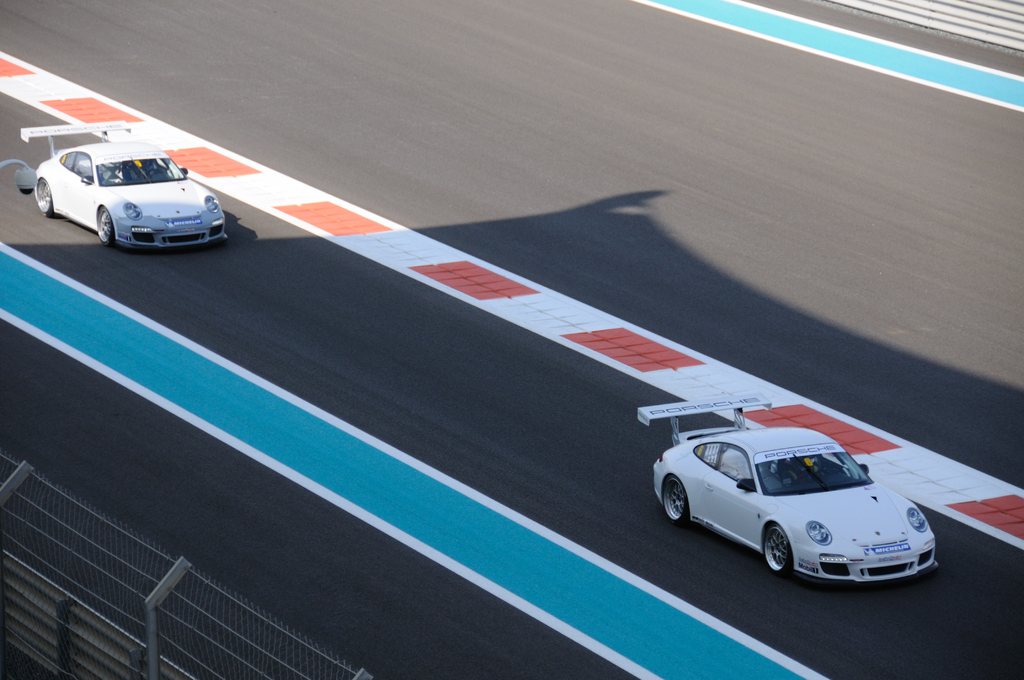Car: (634, 390, 938, 580), (21, 119, 225, 254)
